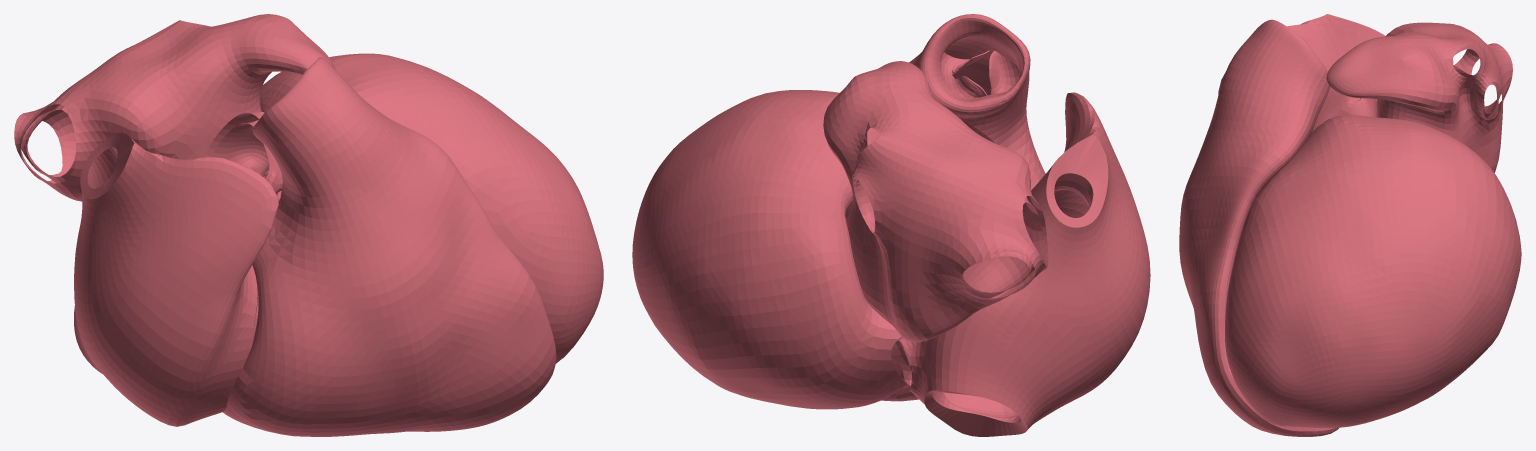
File: heart.glb
The picture shows the model from 3 angles, left to right: view 1: azimuth 30°, elevation 25°; view 2: azimuth 150°, elevation 25°; view 3: azimuth 270°, elevation 25°; orthographic projection. The views are drawn at different scales.
Parts seen in each view (by area): view 1: heart; view 2: heart; view 3: heart.
Part boxes in pixels (box(x1,y1,x2,y2)): heart: box(14, 14, 603, 436); heart: box(632, 14, 1150, 436); heart: box(1179, 14, 1521, 436).
Size of the model in its own units: 0.1425 by 0.11 by 0.1015.
